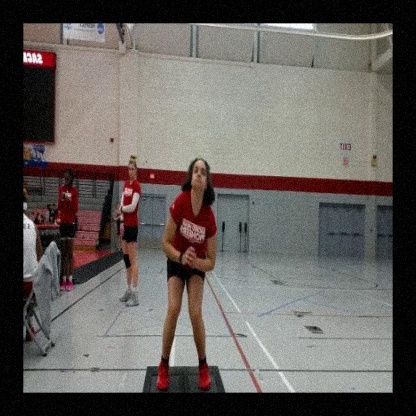lateral_flexion_right: (155, 157, 218, 392)
stance_width_normal: (155, 187, 216, 393)
